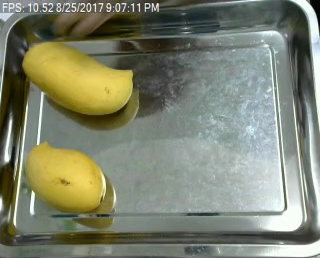Mango: (19, 40, 133, 119), (23, 139, 107, 215)
